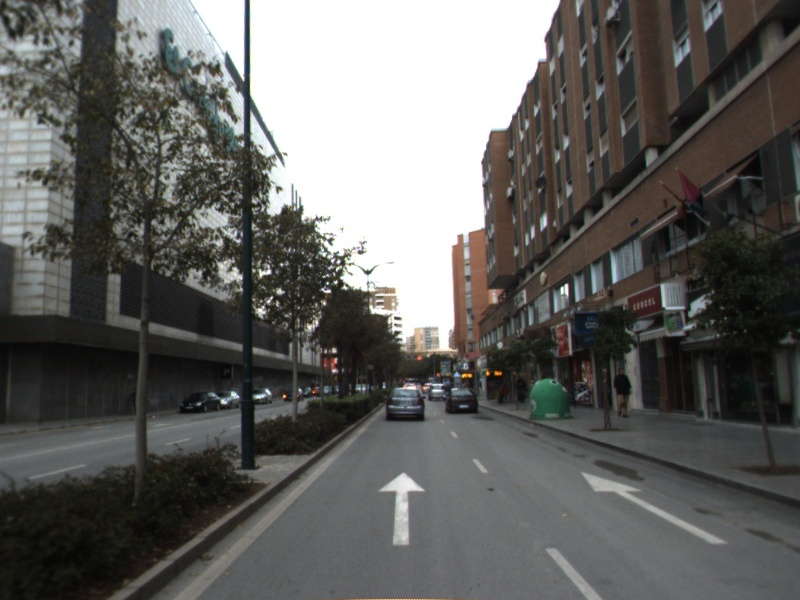STRAIGHT: (579, 470, 730, 547), (376, 470, 428, 547)
